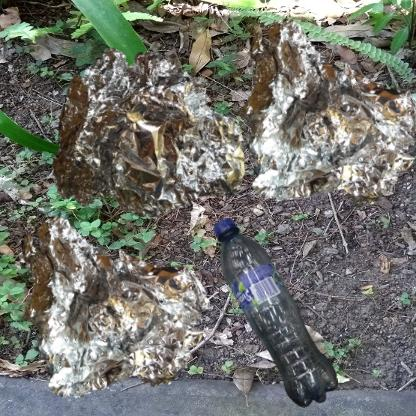aluminio: (10, 10, 290, 287), (213, 10, 416, 240), (10, 213, 216, 409)
botella: (213, 213, 341, 416)
